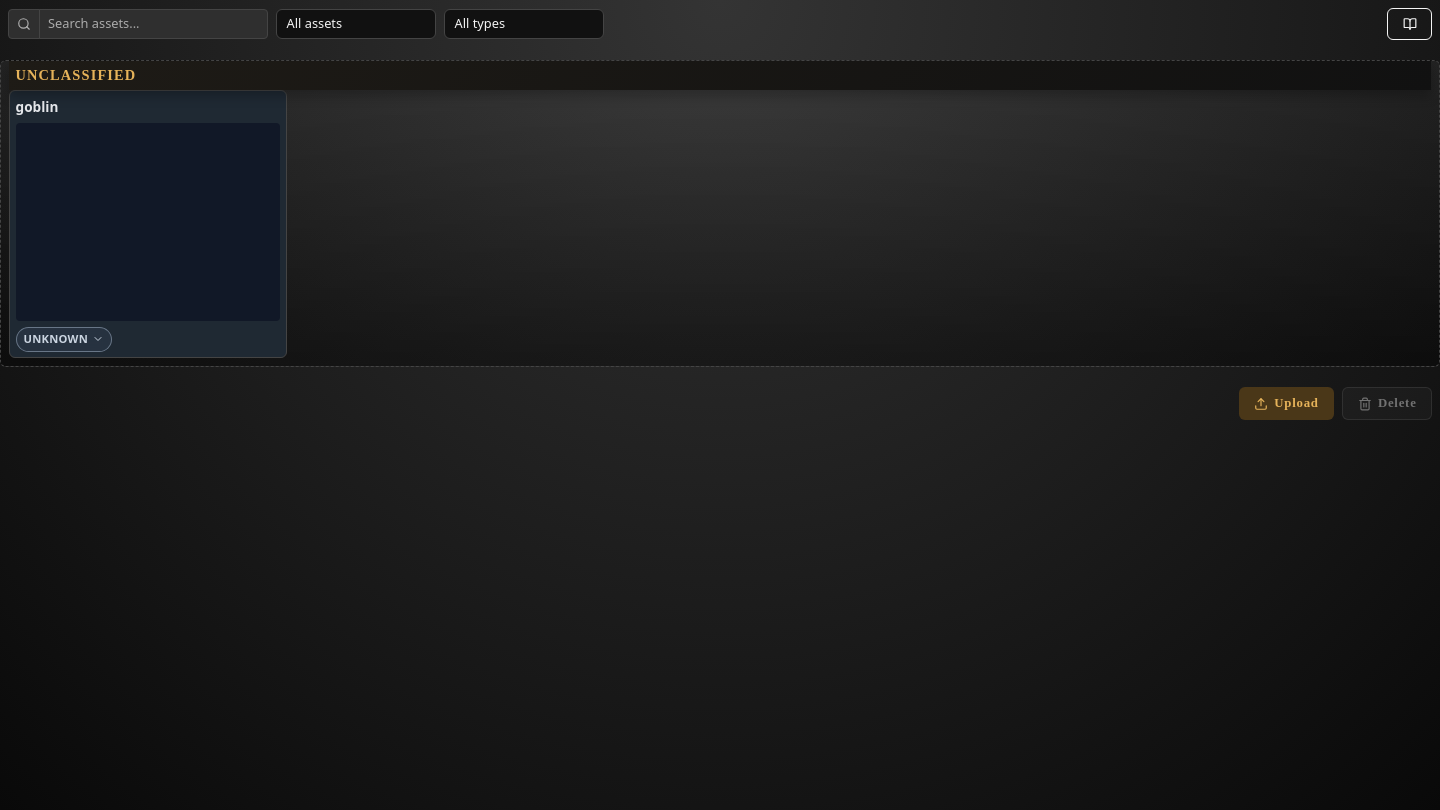
Test: AssetsPanelContent empty state (UI) › shows the normal no-assets message for search-empty results when the library is not empty
The image size is (1440, 810).
Type "wizard" into the search field at (154, 24), box [39,9,268,39]
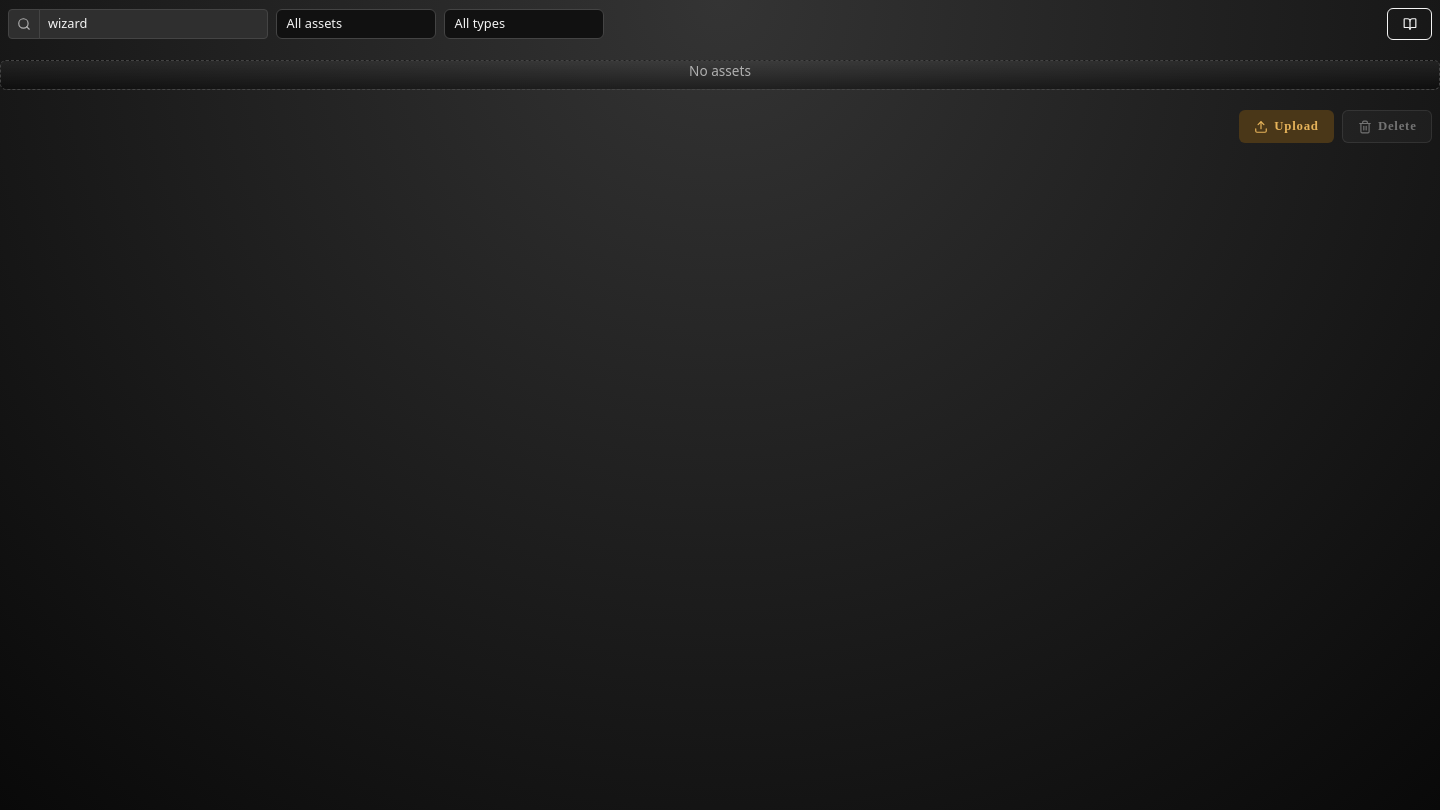
Expected: the text "No assets" is shown, [689,61,751,80]
